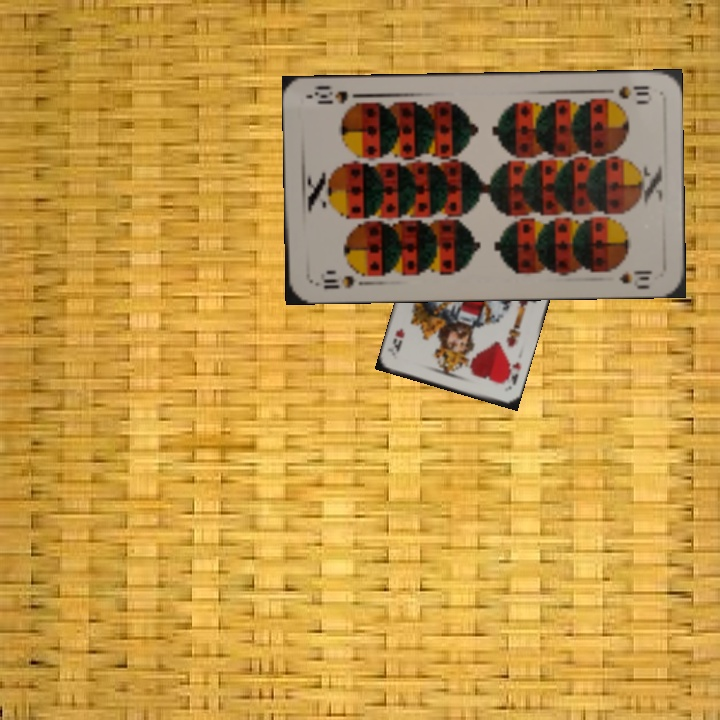HK: (500, 358, 524, 392)
S10: (597, 82, 655, 104), (319, 272, 357, 291)
